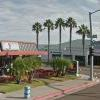Palm tree: (28, 10, 88, 50)
